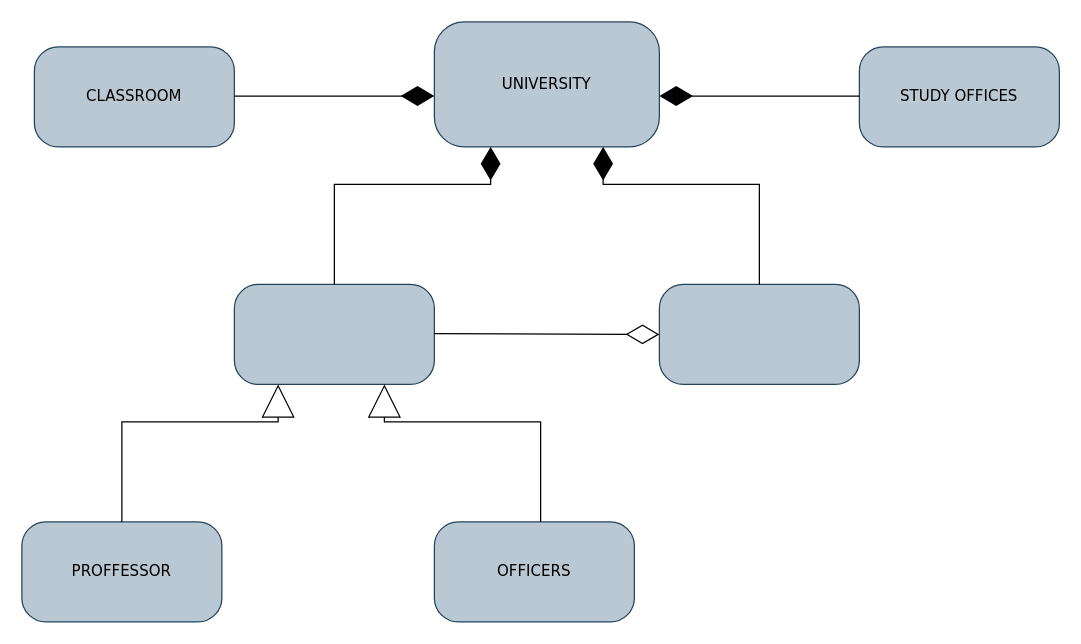
Some shapes in this 1081 by 644 pixel diagram are drawn without their labels. Here are the shapes that lost their labels. From the top down, the centre of each, then its label:
the point at 333,333: WORKERS
the point at 758,333: OFFICES
